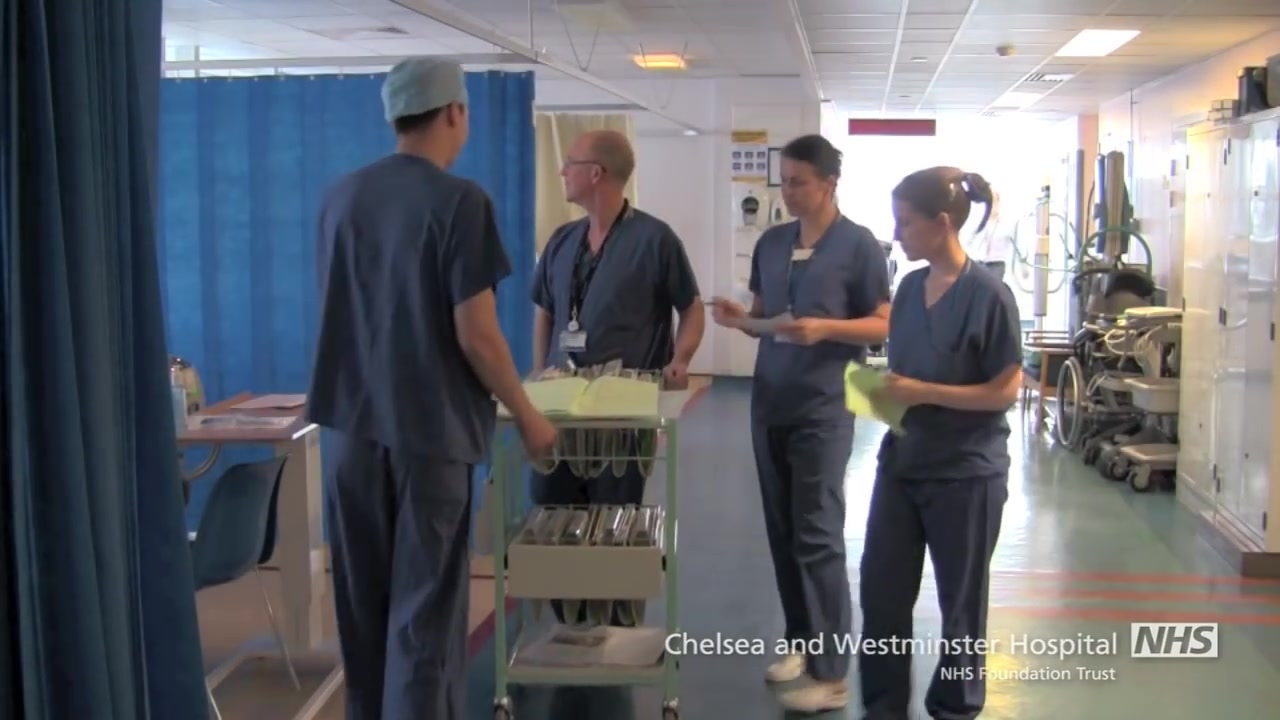cabinet: (1177, 100, 1280, 581)
chair: (192, 450, 301, 720), (1020, 343, 1074, 436)
curtain: (159, 70, 537, 545), (1, 1, 206, 720)
dispenser: (732, 182, 768, 233), (170, 364, 191, 432), (772, 197, 786, 225)
overbed_table: (176, 390, 344, 720)
staff: (303, 57, 557, 720), (709, 133, 891, 712), (857, 165, 1026, 720), (528, 128, 706, 630)
utility_cart: (491, 364, 692, 720), (1079, 301, 1184, 498)
